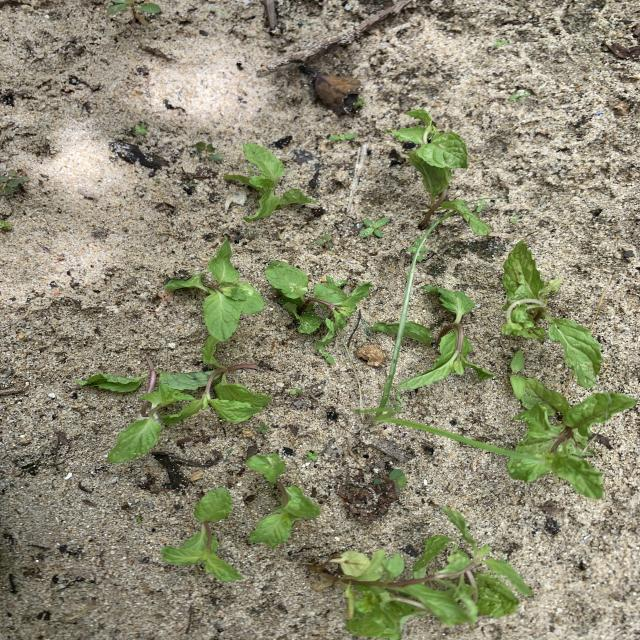crop: (340, 505, 531, 639), (80, 334, 271, 461), (508, 379, 636, 498), (392, 109, 489, 262), (502, 241, 601, 387), (164, 238, 263, 340), (399, 287, 492, 387), (158, 342, 270, 425), (265, 261, 371, 345), (162, 489, 241, 582), (224, 143, 314, 221), (248, 452, 319, 544), (316, 344, 335, 365)
weed: (358, 230, 532, 460), (109, 0, 160, 22), (510, 350, 526, 399), (374, 467, 407, 490), (1, 170, 27, 194), (361, 217, 387, 238), (196, 142, 223, 162), (508, 90, 531, 101), (315, 233, 331, 248), (393, 392, 403, 413), (330, 132, 356, 140), (256, 422, 270, 435), (306, 451, 318, 463), (289, 389, 303, 396)
